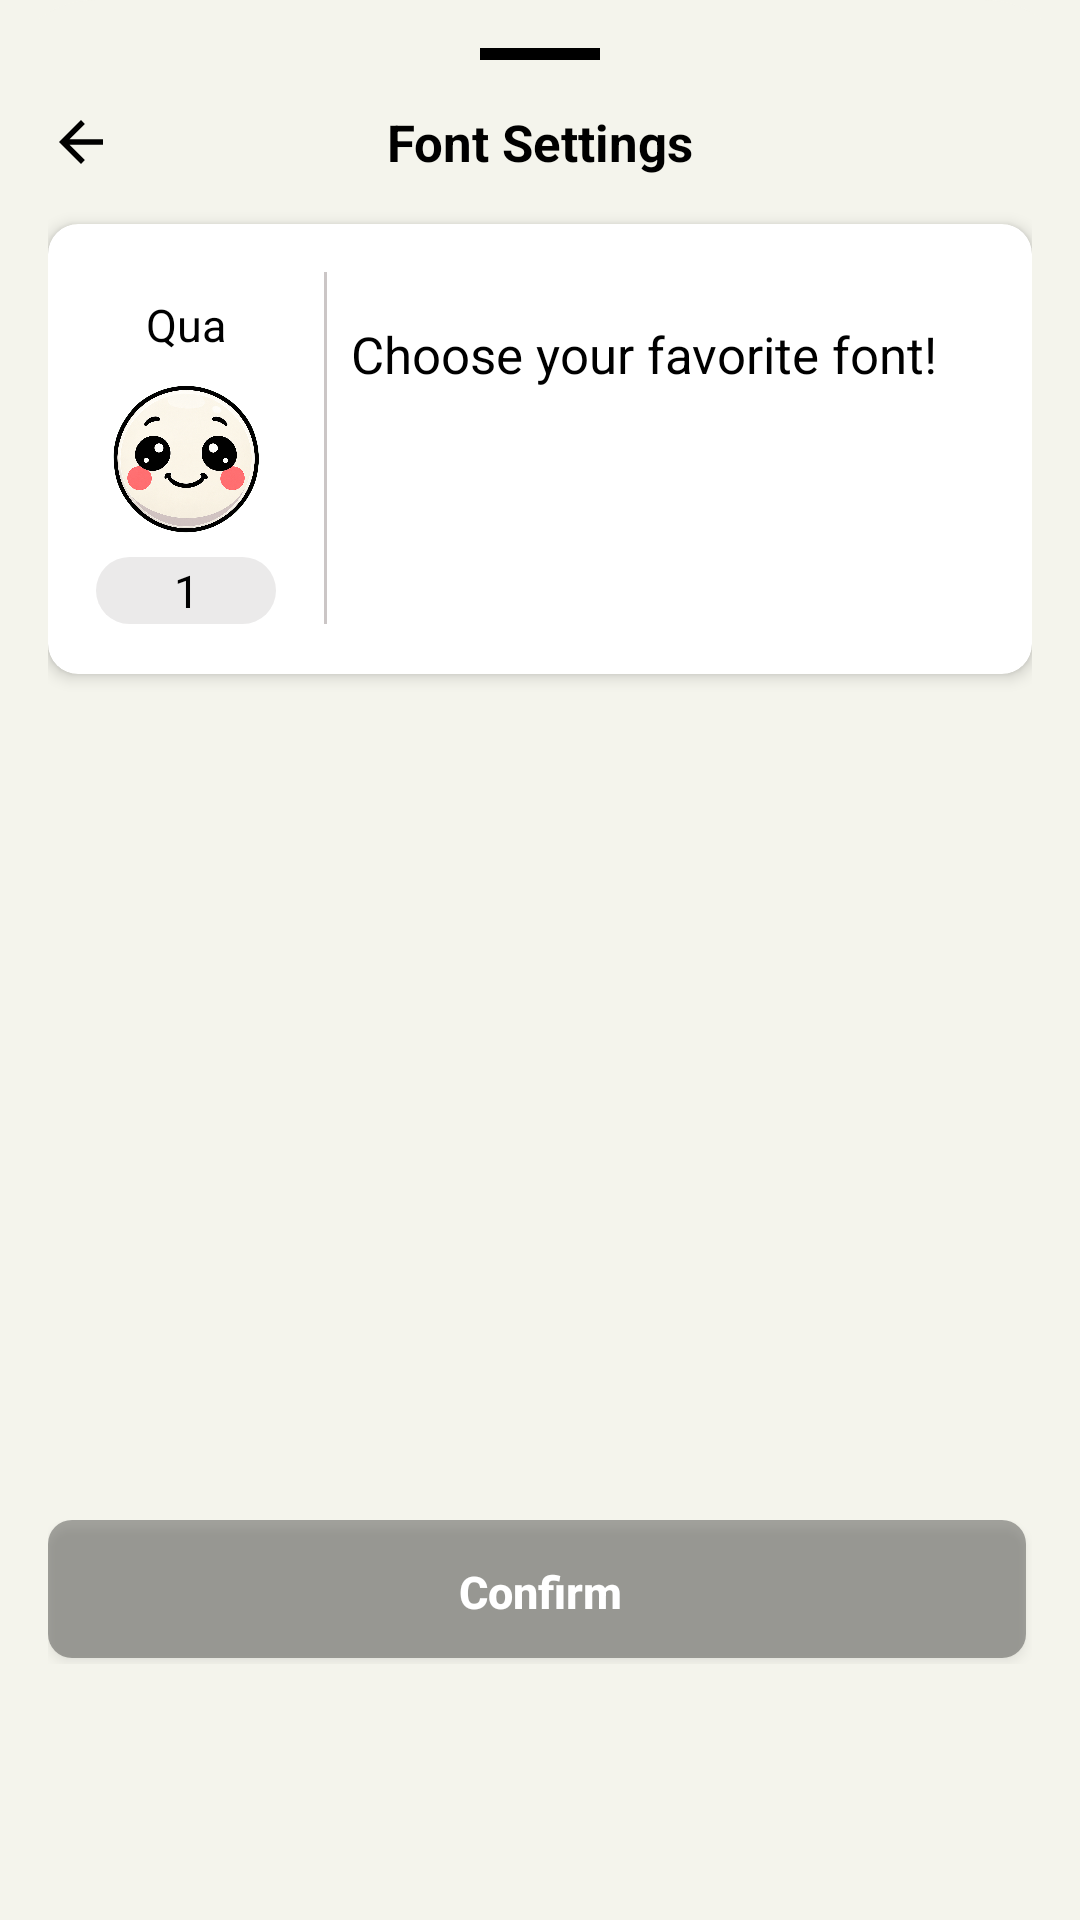

Icon bounding boxes for this 1080x1920 phone screenshot, format [x1=x1, y1=y1, x2=x2, y2=y2]:
Back: [x1=59, y1=120, x2=103, y2=164]
happy: [x1=113, y1=386, x2=259, y2=533]
